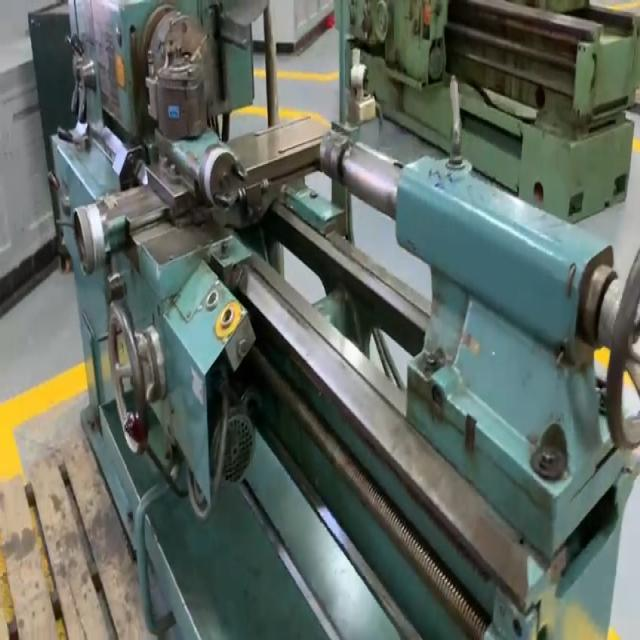tour parallele: (37, 0, 640, 640)
